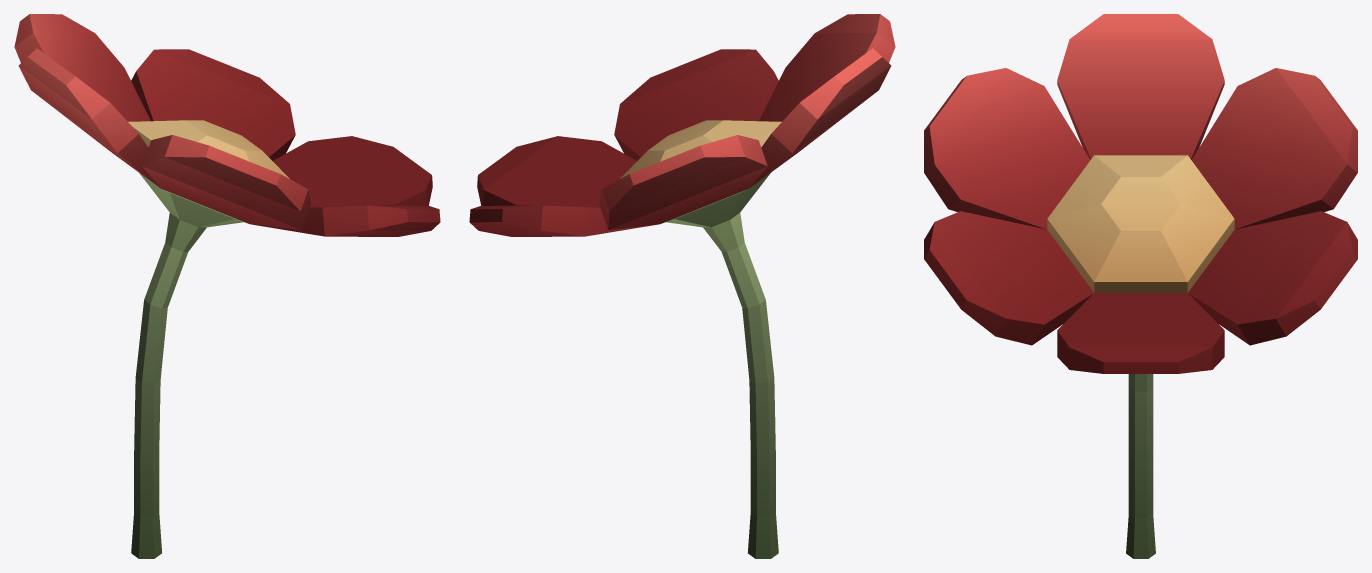
Rendered from kwiatek2.fbx.
3 renders of one model, left to right at view 1: azimuth 30°, elevation 25°; view 2: azimuth 150°, elevation 25°; view 3: azimuth 270°, elevation 25°, orthographic. The views are drawn at different scales.
Visible parts, largest first — view 1: kwiatek2, łodyga.001; view 2: kwiatek2, łodyga.001; view 3: kwiatek2, łodyga.001.
Boxes of the visible parts, x1,y1,x2,y2 form: kwiatek2: (14, 14, 440, 236); łodyga.001: (128, 120, 289, 558); kwiatek2: (469, 14, 895, 236); łodyga.001: (620, 120, 781, 558); kwiatek2: (924, 14, 1357, 373); łodyga.001: (1047, 155, 1234, 558).
Size of the model in its own units: 438 by 586 by 464.
